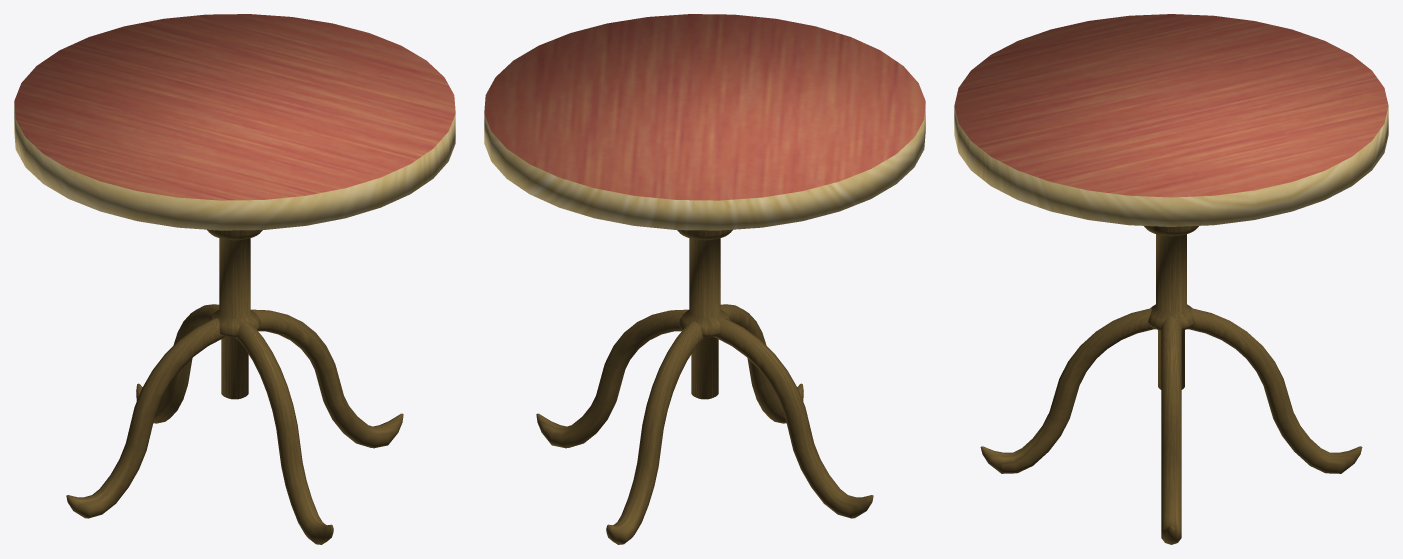
File: ctable.fbx
3 views of the same model, side by side, from view 1: azimuth 30°, elevation 25°; view 2: azimuth 150°, elevation 25°; view 3: azimuth 270°, elevation 25° (orthographic).
Parts seen in each view (by area): view 1: table, foot; view 2: table, foot; view 3: table, foot.
Boxes of the visible parts, box(x1,y1,x2,y2) form: table: box(14, 14, 455, 399); foot: box(66, 304, 403, 544); table: box(484, 14, 925, 399); foot: box(536, 304, 873, 544); table: box(954, 14, 1388, 389); foot: box(980, 308, 1362, 544).
Bounding box in the file's own units: 400 × 373 × 400.
1 material, 1 textured.
